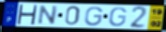0: (64, 5, 82, 27)
2: (129, 5, 148, 30)
G: (84, 6, 104, 27), (108, 7, 128, 28)
H: (16, 4, 39, 26)
N: (36, 5, 60, 25)
